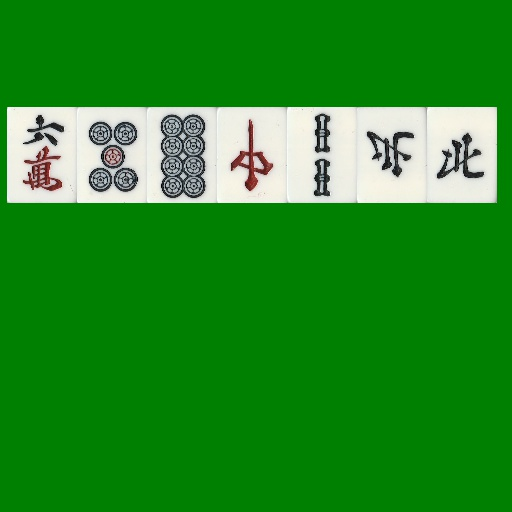2s: (287, 107, 357, 203)
5p: (77, 107, 147, 203)
6m: (7, 107, 77, 203)
8p: (147, 107, 217, 203)
north: (357, 107, 427, 203), (427, 107, 497, 203)
tyun: (217, 107, 287, 203)
